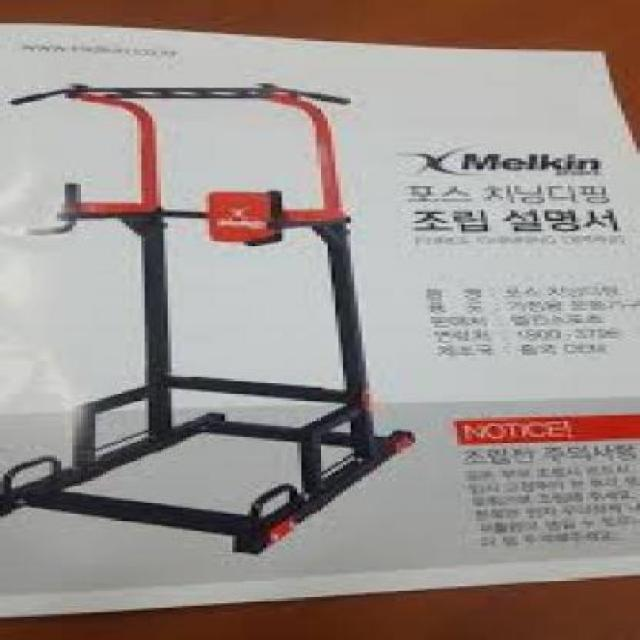chinning dipping: (4, 80, 418, 555)
